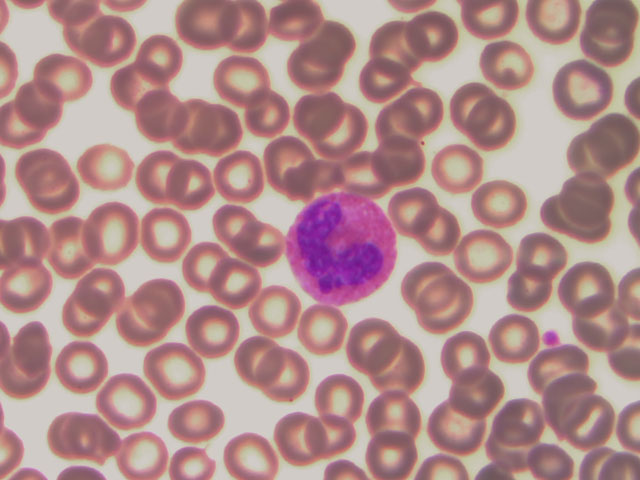Platelets: (538, 322, 564, 350)
RBC: (548, 59, 617, 122), (571, 109, 640, 172), (549, 168, 618, 231), (82, 198, 141, 259), (136, 201, 195, 262), (134, 144, 193, 205), (160, 154, 219, 215), (205, 147, 264, 208), (189, 97, 248, 158), (157, 93, 216, 154), (136, 86, 195, 147), (115, 69, 174, 130), (82, 7, 141, 68), (211, 46, 270, 107), (235, 79, 294, 140), (259, 133, 318, 194), (212, 204, 271, 265), (177, 235, 236, 296), (202, 257, 261, 318), (183, 299, 242, 360), (134, 274, 193, 335), (109, 292, 168, 353), (75, 254, 134, 315), (38, 214, 97, 275), (1, 256, 60, 317), (53, 333, 112, 394), (98, 370, 157, 431), (147, 338, 206, 399), (167, 392, 226, 453), (219, 419, 278, 480), (270, 408, 329, 469), (302, 403, 361, 464), (306, 363, 365, 424), (258, 345, 317, 406), (223, 324, 282, 385), (249, 280, 308, 341), (295, 298, 354, 359), (342, 309, 401, 370), (371, 338, 430, 399), (368, 381, 427, 442), (364, 419, 423, 480), (426, 395, 485, 456), (450, 363, 509, 424), (440, 318, 499, 379), (130, 22, 189, 83), (31, 49, 93, 107), (5, 82, 67, 140), (17, 148, 79, 206), (71, 138, 133, 196), (285, 39, 347, 94), (357, 52, 419, 107), (376, 86, 438, 141), (438, 75, 500, 130), (478, 36, 540, 91), (405, 10, 467, 65), (366, 15, 428, 70), (3, 325, 53, 392), (300, 19, 362, 73), (294, 88, 356, 142), (317, 107, 379, 161), (339, 146, 401, 200), (377, 128, 439, 182), (469, 102, 531, 156), (175, 1, 237, 54), (262, 1, 324, 54), (472, 176, 526, 227), (431, 141, 485, 192), (458, 229, 512, 280), (482, 430, 534, 480), (529, 430, 581, 480), (420, 282, 473, 331), (398, 255, 451, 304), (514, 230, 566, 279), (503, 264, 555, 313), (488, 314, 540, 363), (548, 371, 600, 420), (501, 397, 553, 446), (576, 302, 628, 351), (561, 261, 613, 310), (116, 430, 168, 479), (58, 409, 110, 458), (526, 1, 581, 47), (390, 183, 439, 231), (415, 207, 461, 254)
WBC: (286, 193, 400, 308)
